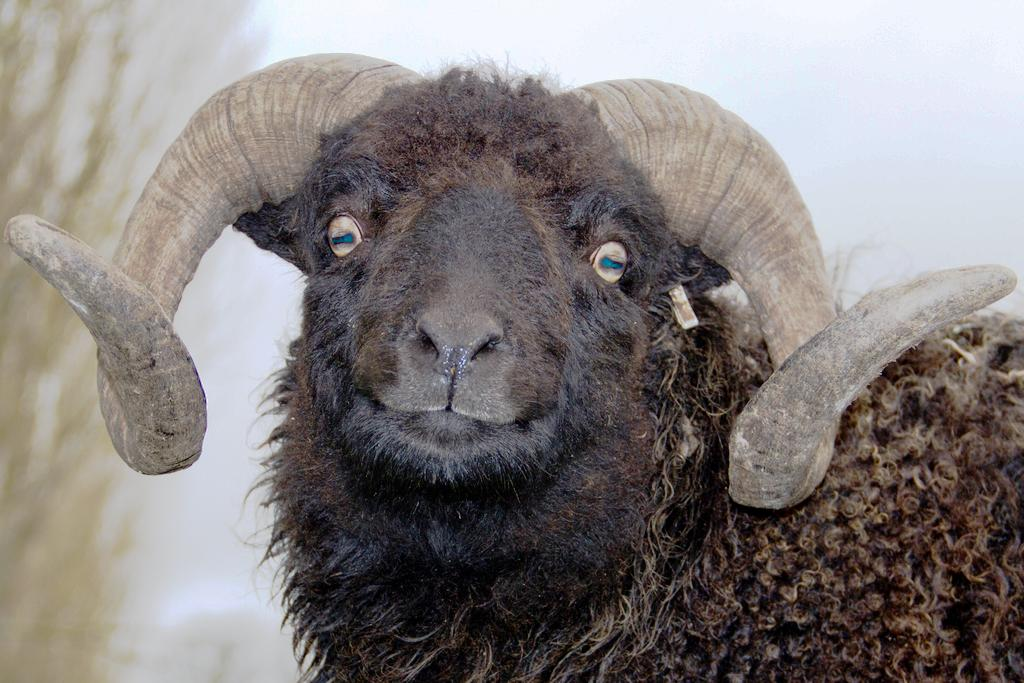Sheep: (5, 48, 1024, 683)
